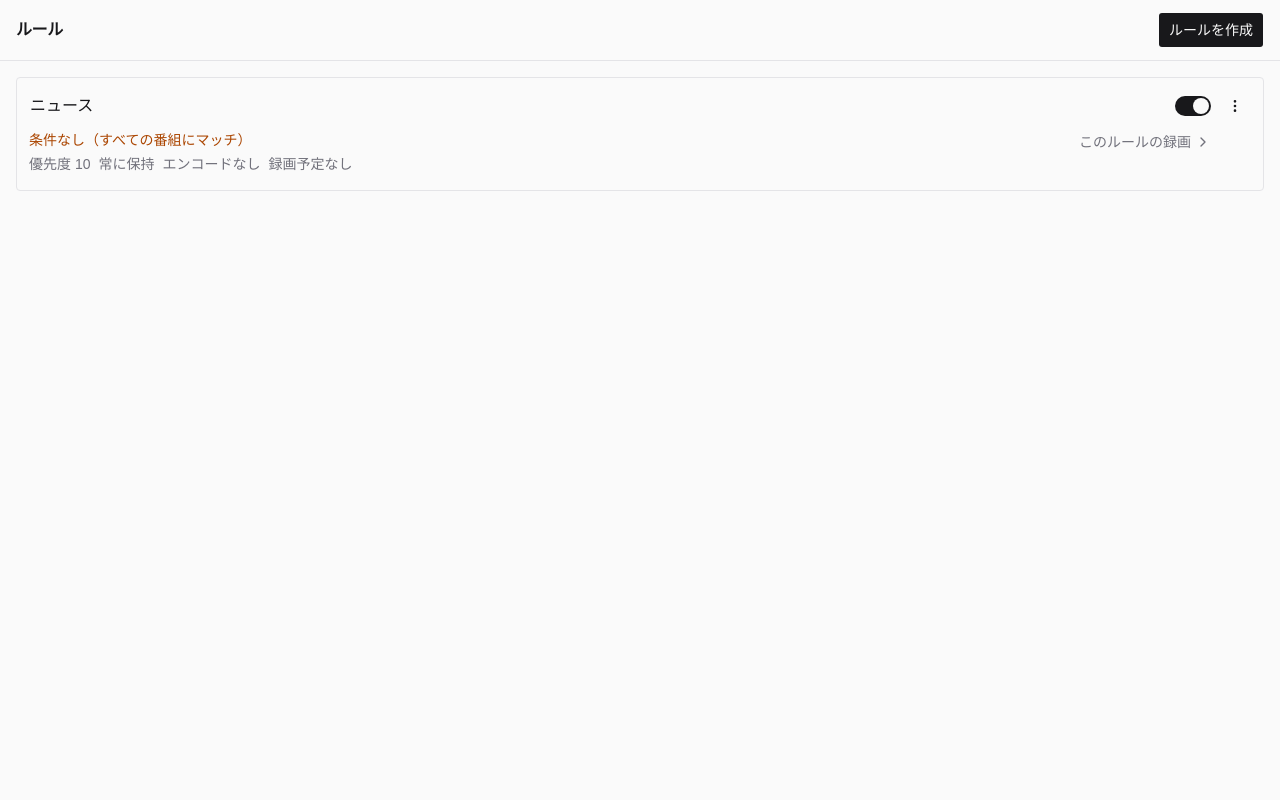
Test: RulesPage ルールの有効スイッチ › 録画中が 200 件を超えてもすべて数えて確認する
Click the switch named "ルール「ニュース」を有効にする". click: point(1193, 106)
box: [1171,90,1215,122]
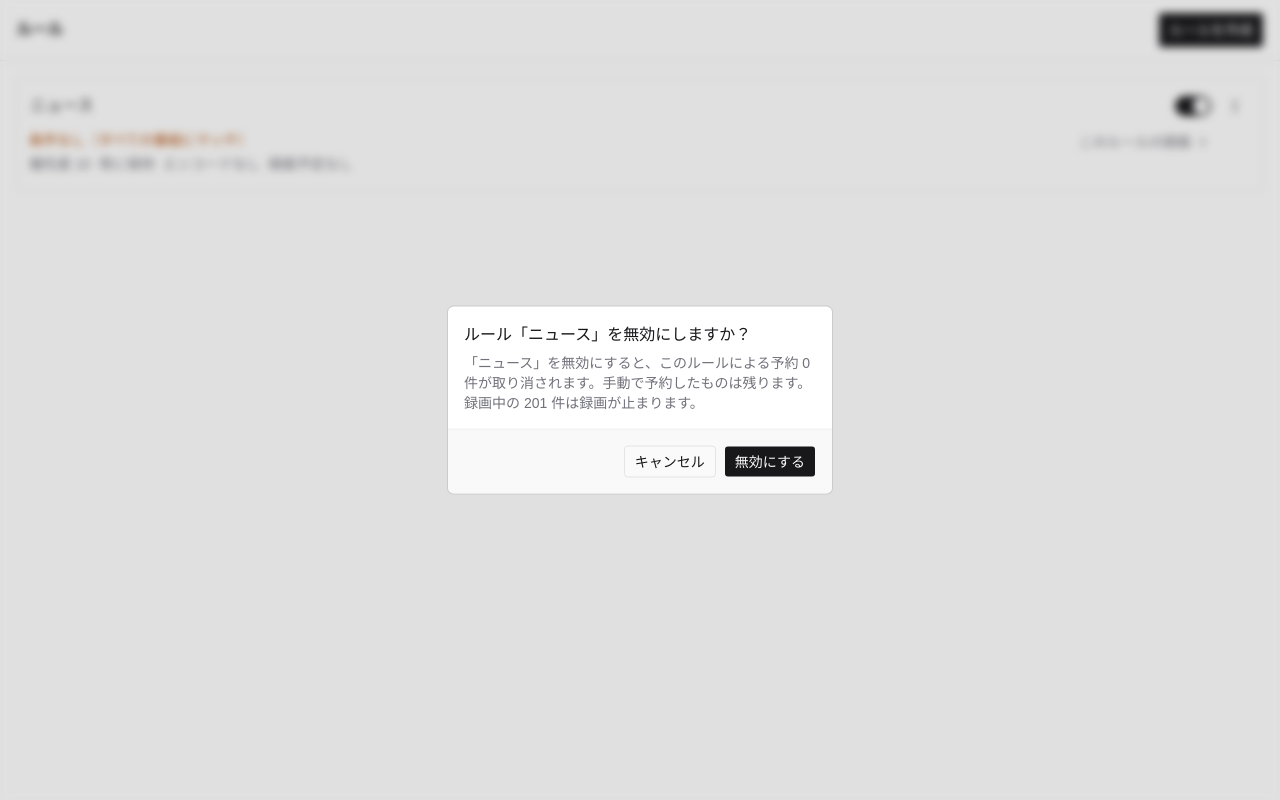
expect the text "録画中の 201 件は録画が止まります" is shown: met, box [464,354,811,410]
